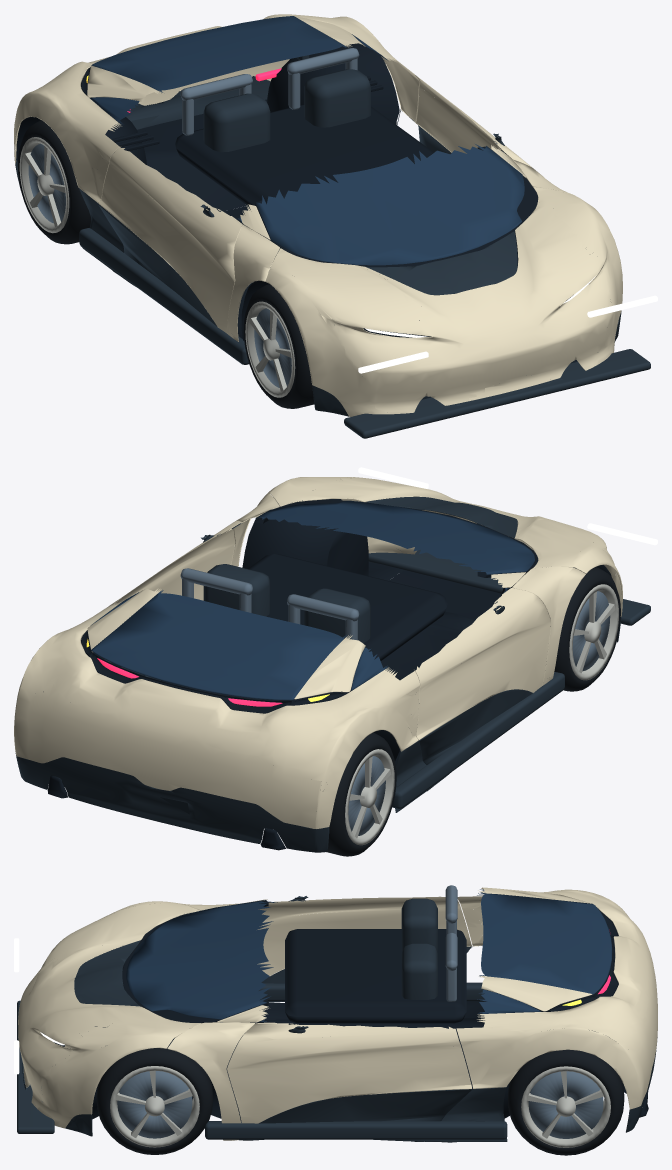
Rendered from solis-lod0.glb.
The picture shows the model from 3 angles, top to bottom: view 1: azimuth 30°, elevation 25°; view 2: azimuth 150°, elevation 25°; view 3: azimuth 270°, elevation 25°; orthographic projection. The views are drawn at different scales.
Parts seen in each view (by area): view 1: Body, WheelFrontR, WheelRearR; view 2: Body, WheelRearR, WheelFrontR; view 3: Body, WheelFrontL, WheelRearL.
Boxes of the visible parts, bbox=[...] form: Body: bbox=[14, 14, 657, 438]; WheelFrontR: bbox=[243, 284, 314, 408]; WheelRearR: bbox=[17, 120, 90, 244]; Body: bbox=[14, 467, 657, 852]; WheelRearR: bbox=[326, 732, 396, 856]; WheelFrontR: bbox=[554, 567, 620, 691]; Body: bbox=[14, 885, 657, 1142]; WheelFrontL: bbox=[96, 1046, 212, 1154]; WheelRearL: bbox=[508, 1049, 624, 1155].
Size of the model in its own units: 2.29 by 1.2 by 4.25.
